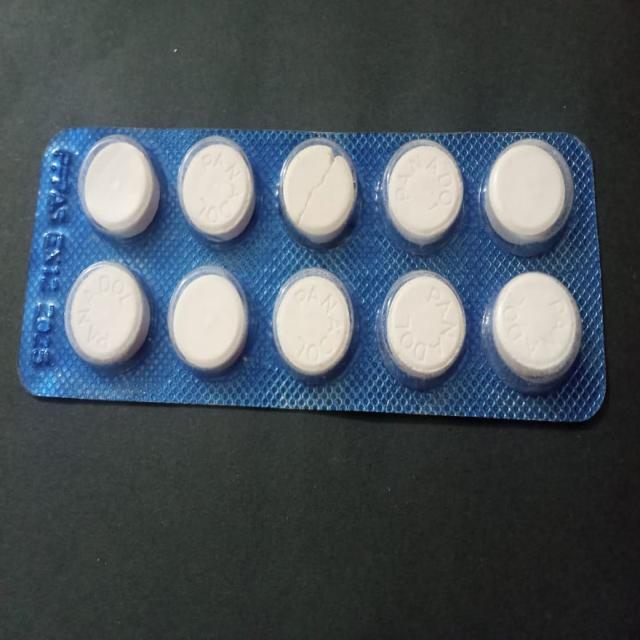defect: (275, 134, 362, 252)
